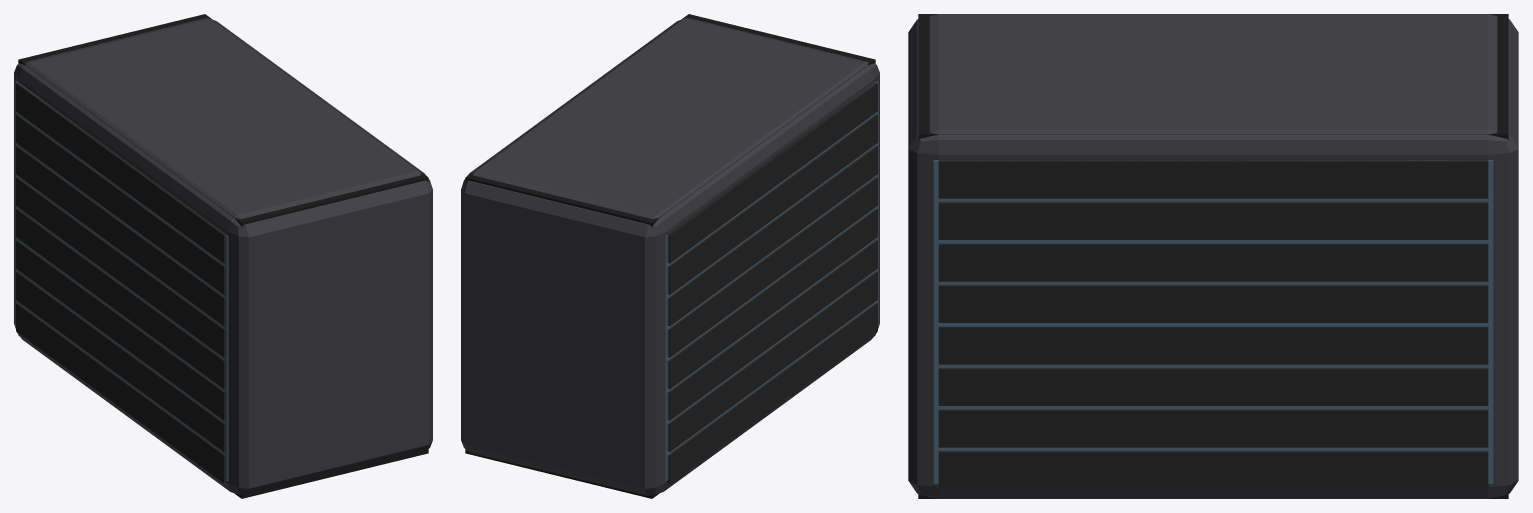
File: datacenter_server_rack.glb
3 views of the same model, side by side, from view 1: azimuth 30°, elevation 25°; view 2: azimuth 150°, elevation 25°; view 3: azimuth 270°, elevation 25° (orthographic). The views are drawn at different scales.
Parts seen in each view (by area): view 1: Rack_Body; view 2: Rack_Body; view 3: Rack_Body.
Boxes of the visible parts, left/top/right/bottom form: Rack_Body: left=14, top=14, right=432, bottom=498; Rack_Body: left=461, top=14, right=879, bottom=498; Rack_Body: left=908, top=14, right=1518, bottom=498.
Bounding box in the file's own units: 3.1 × 4 × 6.
